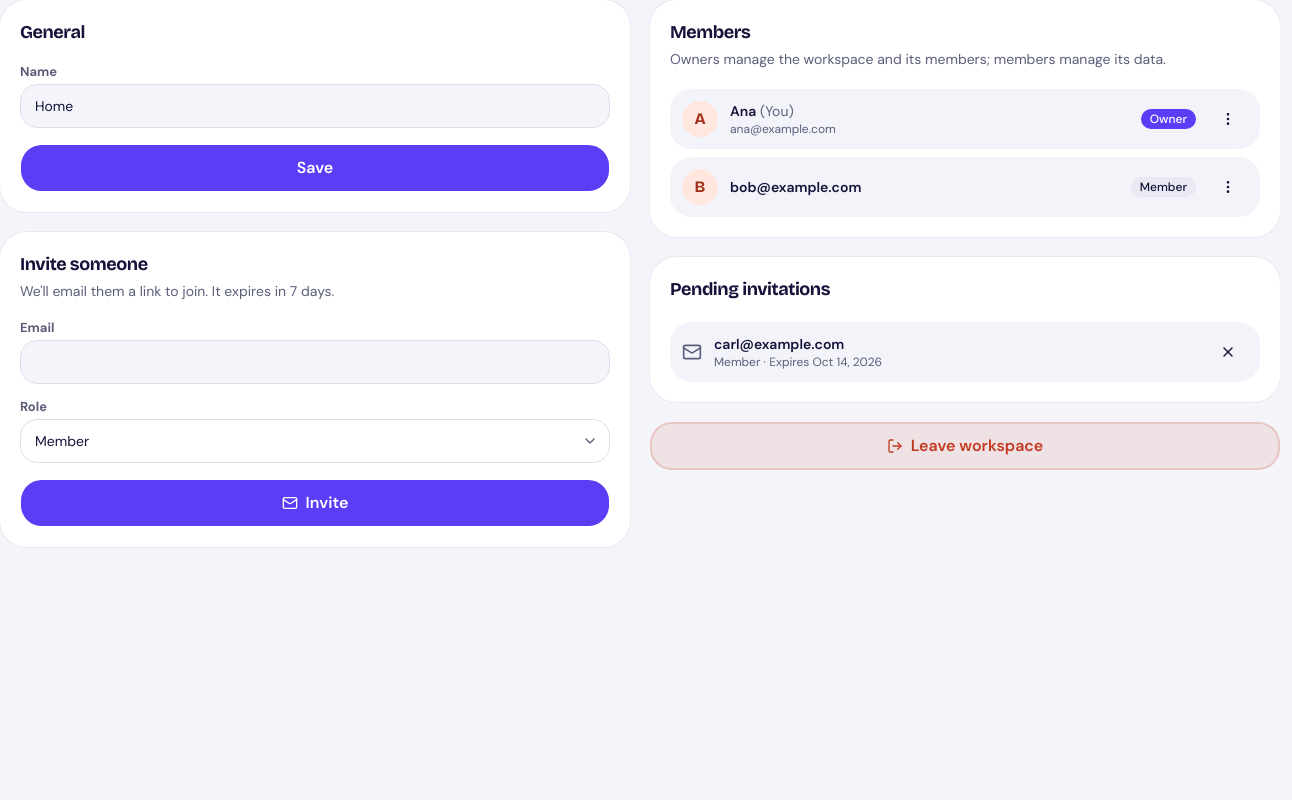
WorkspaceSettings › shows invitation errors
The image size is (1292, 800).
Type "bob@example.com" into the field labelled "Email" at (315, 362), box left=20, top=340, right=610, bottom=384
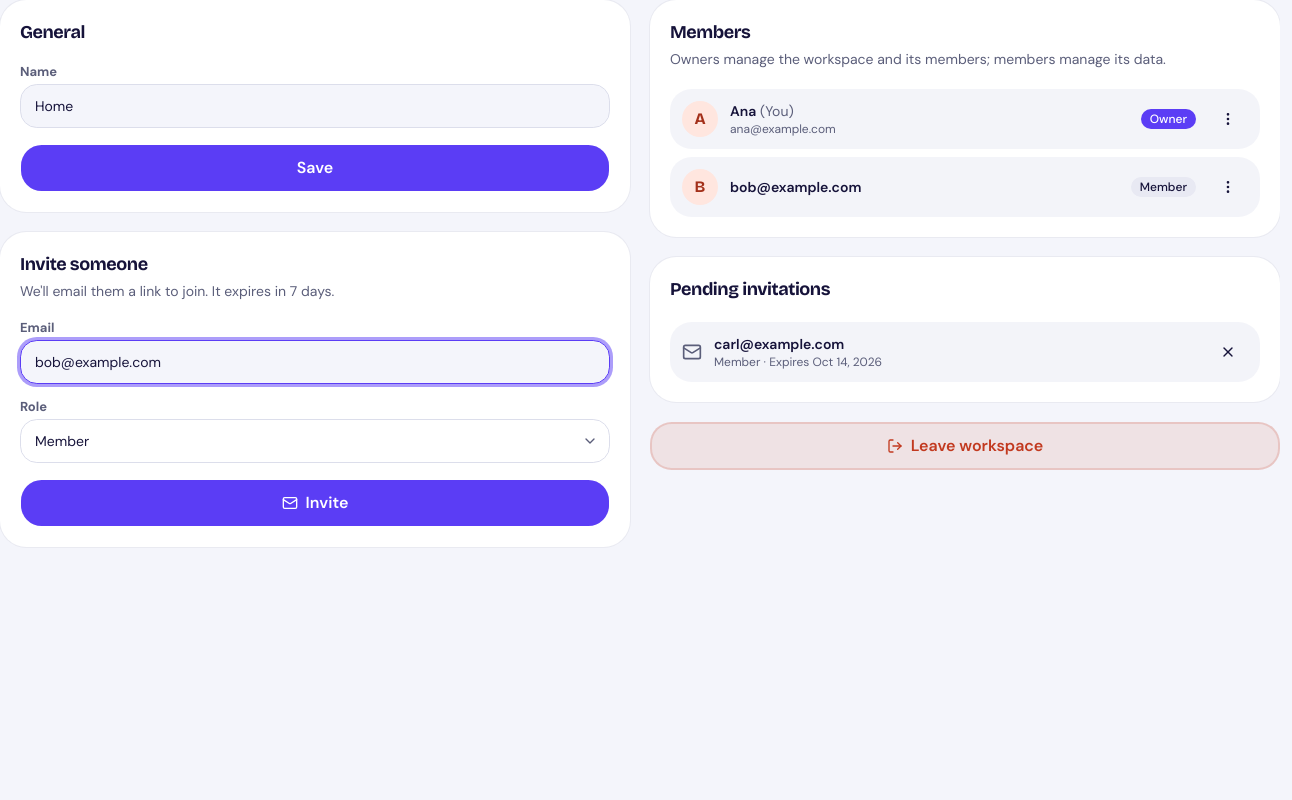
Click the button "Invite" at (315, 502), box left=20, top=478, right=610, bottom=526
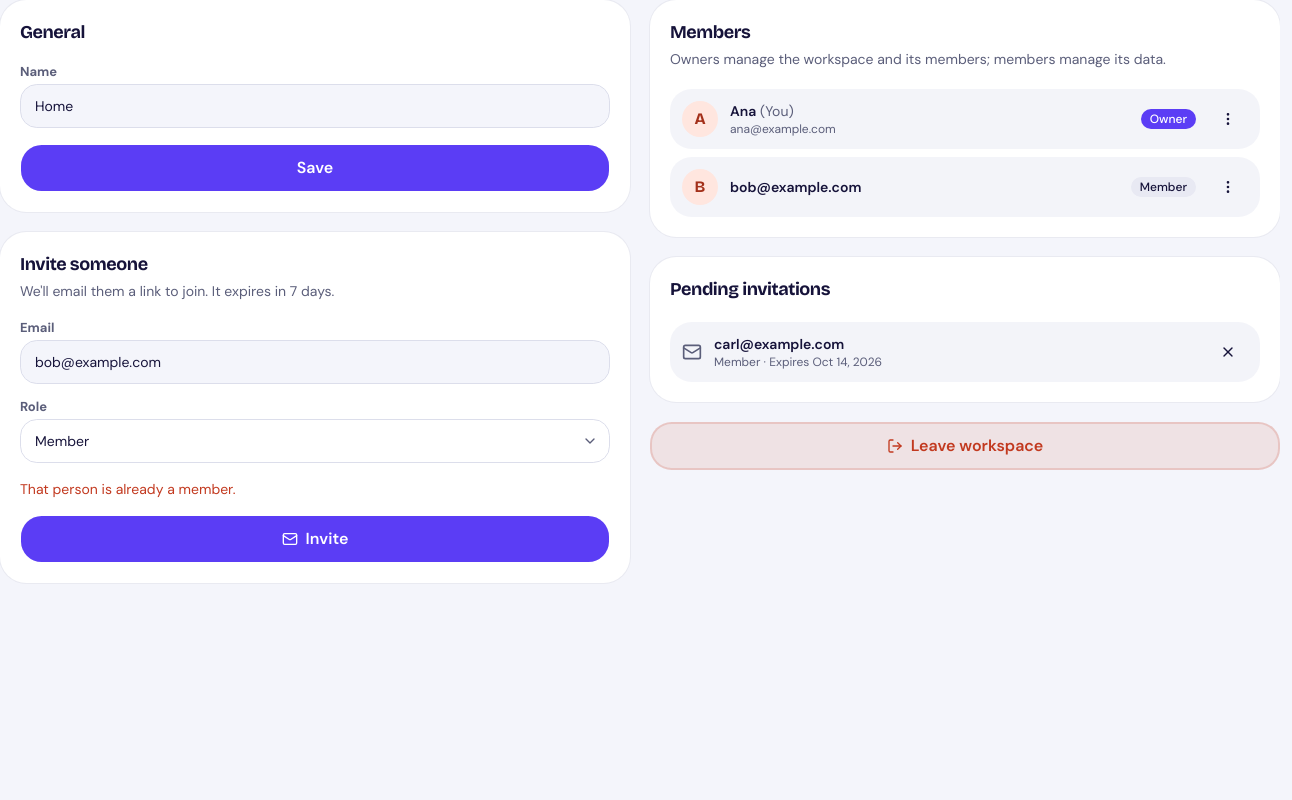
Expected: the message reads "That person is already a member.", left=20, top=480, right=236, bottom=498
